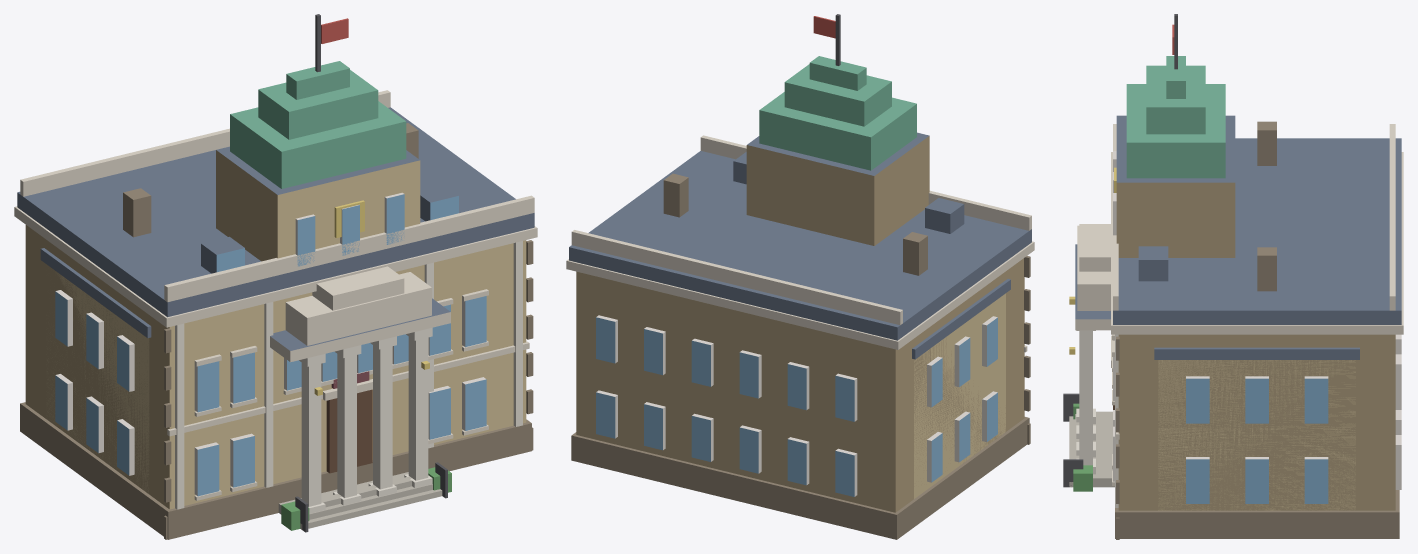
The model's file is University.fbx.
3 views of the same model, side by side, from view 1: azimuth 30°, elevation 25°; view 2: azimuth 150°, elevation 25°; view 3: azimuth 270°, elevation 25° (orthographic). The views are drawn at different scales.
Visible parts, largest first — view 1: University; view 2: University; view 3: University.
Part boxes in pixels (left/top/right/bottom): University: left=14, top=14, right=537, bottom=539; University: left=566, top=14, right=1034, bottom=539; University: left=1063, top=14, right=1403, bottom=539.
Size of the model in its own units: 2080 by 2450 by 1720.
